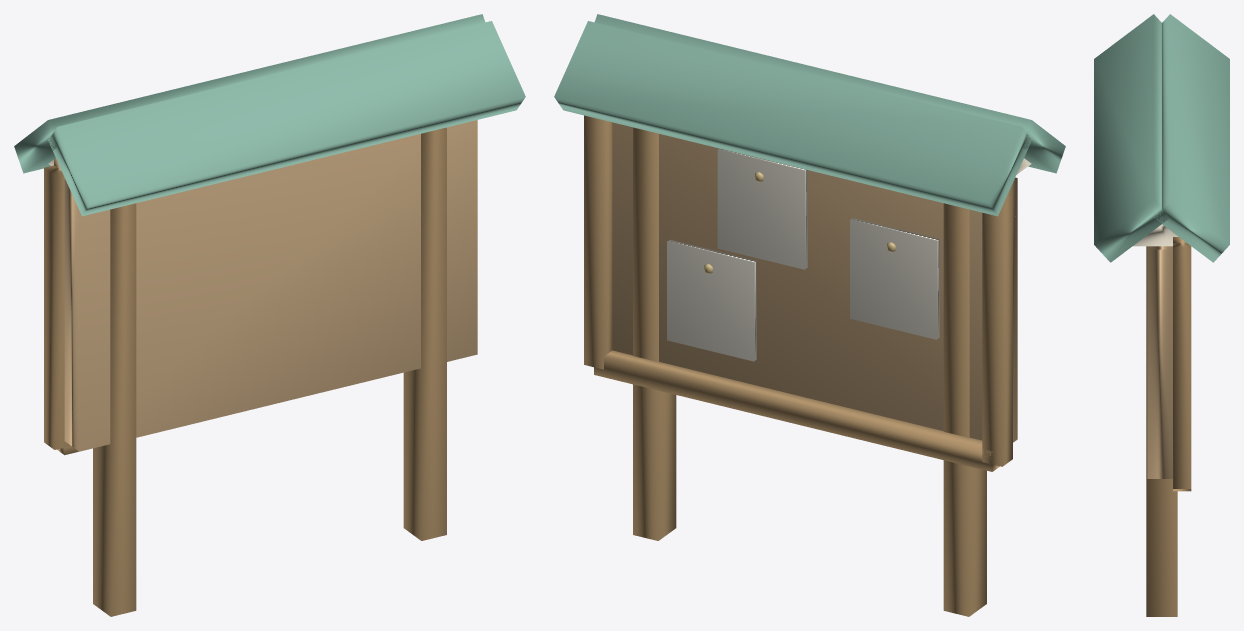
File: board_low.glb
3 views of the same model, side by side, from view 1: azimuth 30°, elevation 25°; view 2: azimuth 150°, elevation 25°; view 3: azimuth 270°, elevation 25° (orthographic). The views are drawn at different scales.
Bounding box in the file's own units: 2.4 × 2.63 × 0.7395.
